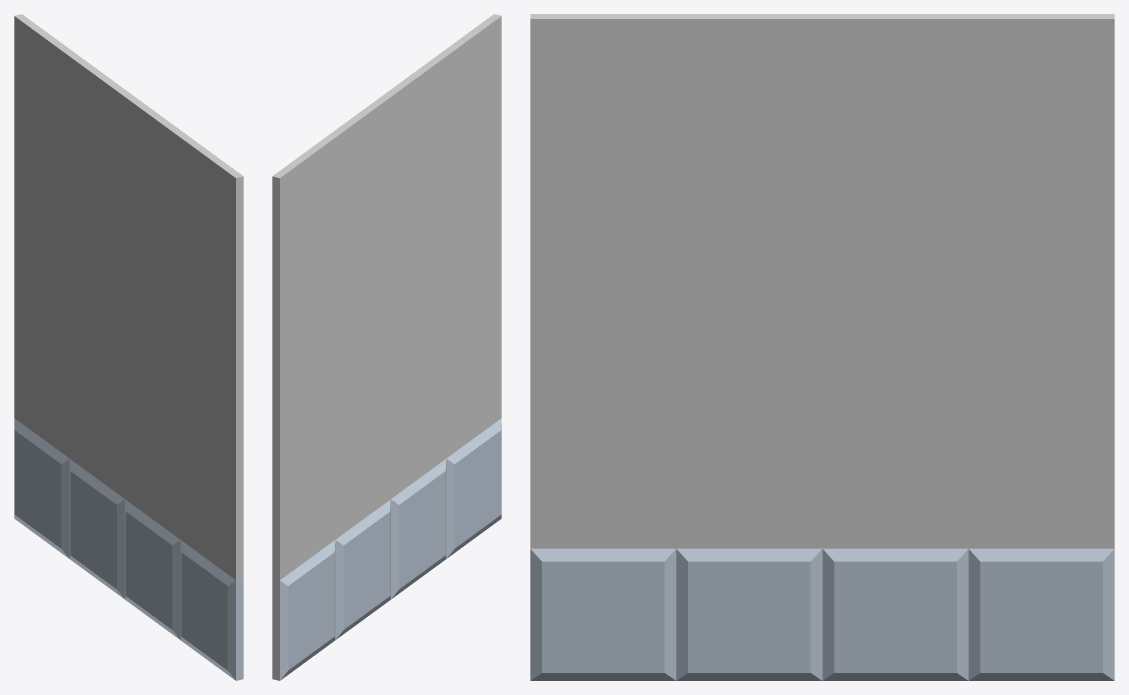
The model's file is sciana2.glb.
3 views of the same model, side by side, from view 1: azimuth 30°, elevation 25°; view 2: azimuth 150°, elevation 25°; view 3: azimuth 270°, elevation 25° (orthographic). The views are drawn at different scales.
Visible parts, largest first — view 1: Cube; view 2: Cube; view 3: Cube.
Part boxes in pixels (<box>): Cube: <box>14,14,243,680</box>; Cube: <box>272,14,501,680</box>; Cube: <box>530,14,1114,680</box>.
Size of the model in its own units: 0.16 by 5 by 4.
